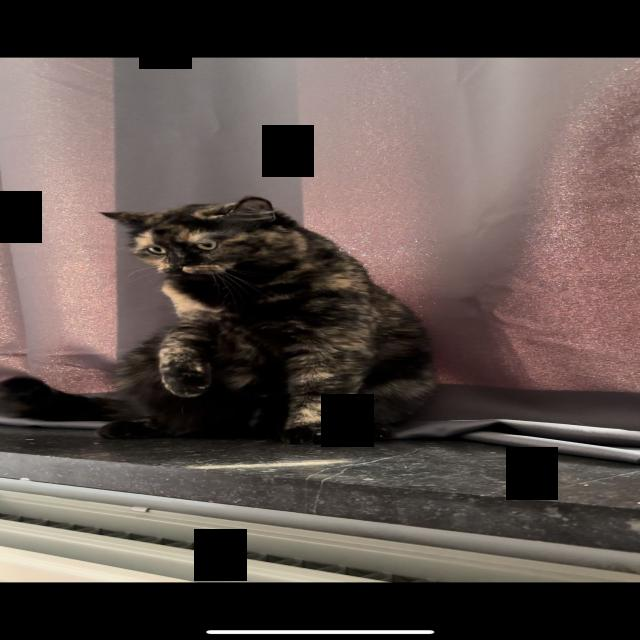authorized: (1, 194, 438, 444)
